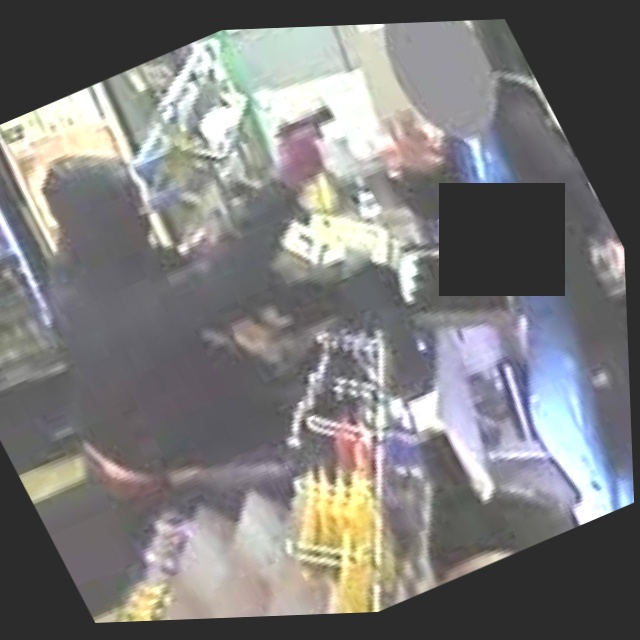gun: (259, 92, 356, 179)
